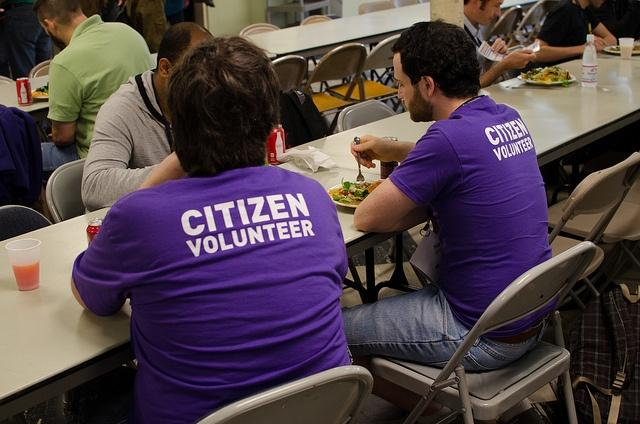Kursi: (369, 239, 595, 423)
Meja: (480, 36, 639, 167)
